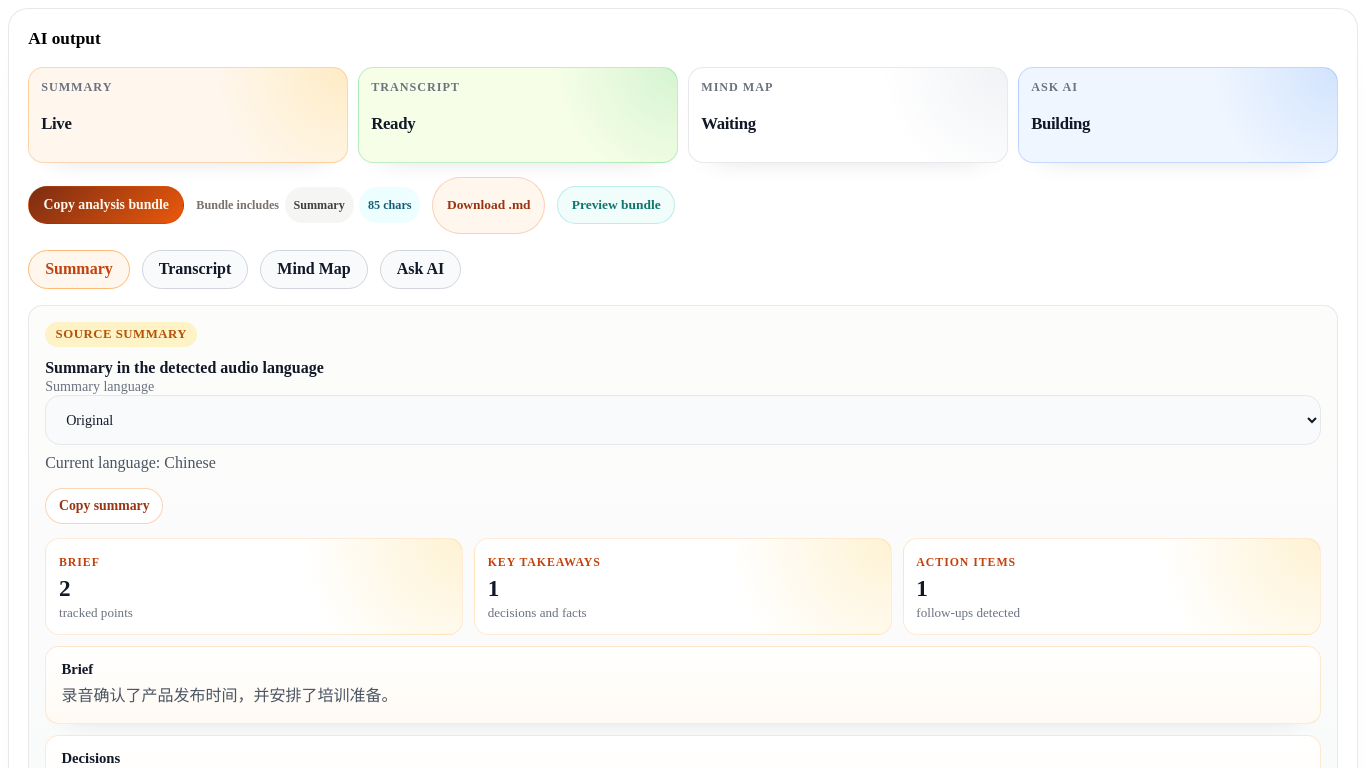
Scenario: copies the structured summary to the clipboard
Click the button "Copy summary": coordinates (104, 506) [45,488,163,524]
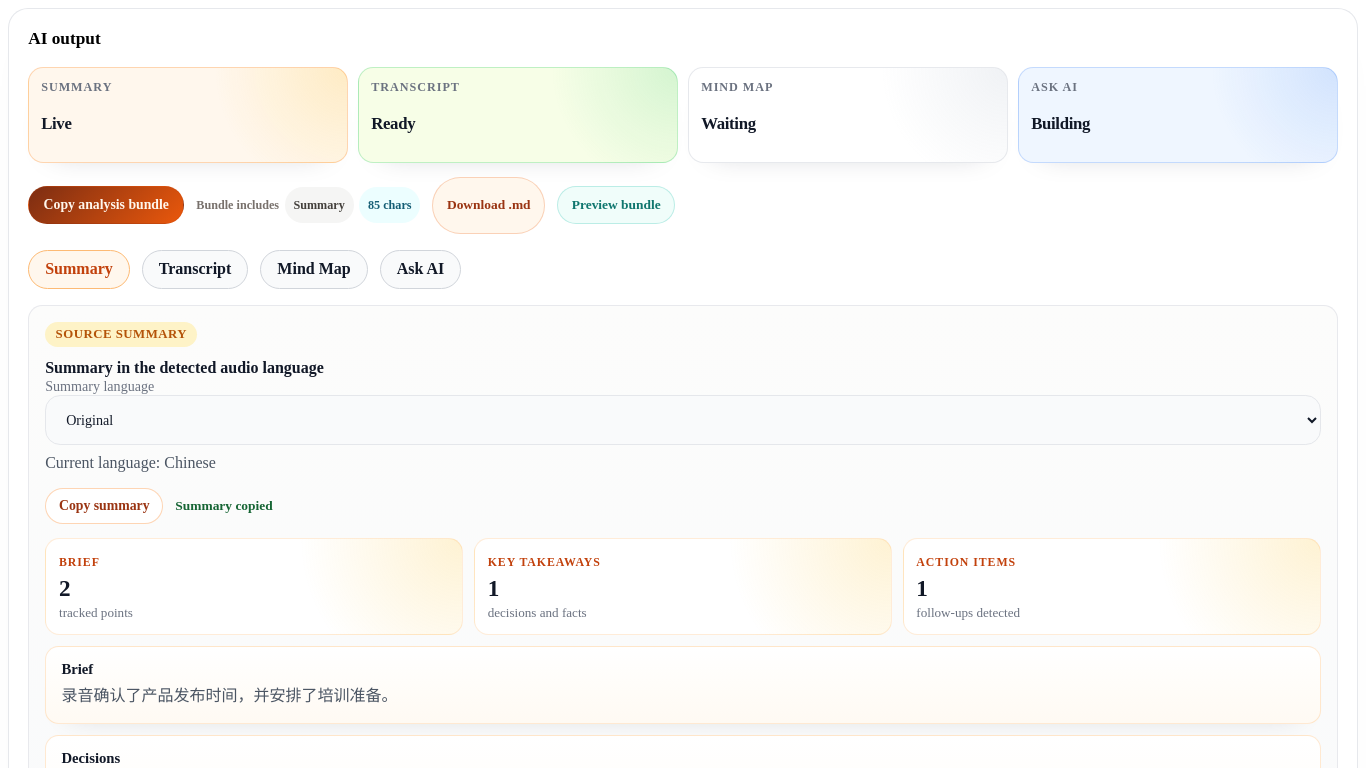
Expected: the text "Summary copied" is shown, [175,498,273,514]
